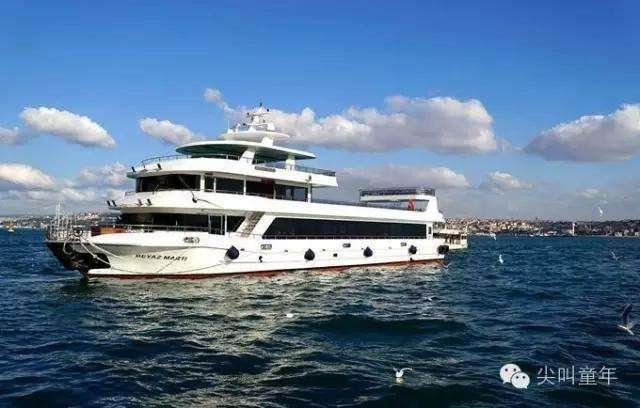yacht: (56, 123, 455, 287)
